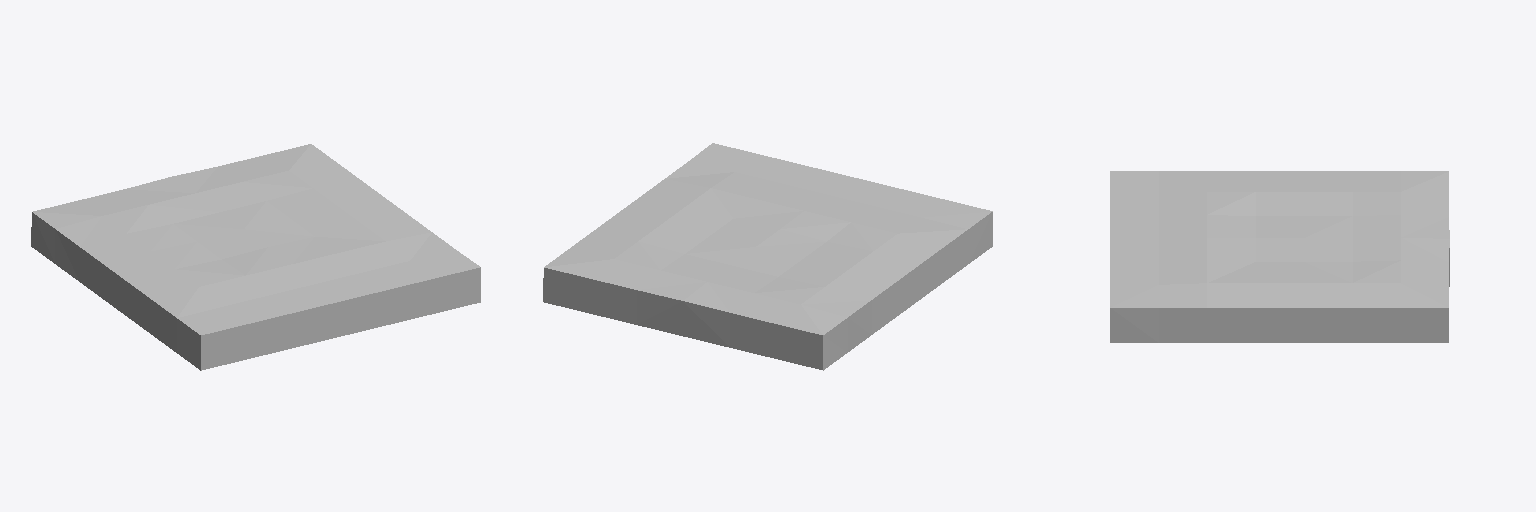
Rendered from platformlow1.OBJ.
The picture shows the model from 3 angles: view 1: azimuth 30°, elevation 25°; view 2: azimuth 150°, elevation 25°; view 3: azimuth 270°, elevation 25°; orthographic projection.
Parts seen in each view (by area): view 1: ZBrush_defualt_group, Group3, Group2; view 2: ZBrush_defualt_group, Group1, Group2; view 3: ZBrush_defualt_group, Group4.
Boxes of the visible parts, box(x1,y1,x2,y2) form: ZBrush_defualt_group: box(33, 144, 479, 334); Group3: box(201, 267, 480, 370); Group2: box(31, 212, 200, 370); ZBrush_defualt_group: box(544, 143, 992, 334); Group1: box(543, 268, 822, 369); Group2: box(823, 212, 992, 370); ZBrush_defualt_group: box(1110, 171, 1449, 307); Group4: box(1110, 308, 1448, 342).
Size of the model in its own units: 26.6 by 3.34 by 27.9.